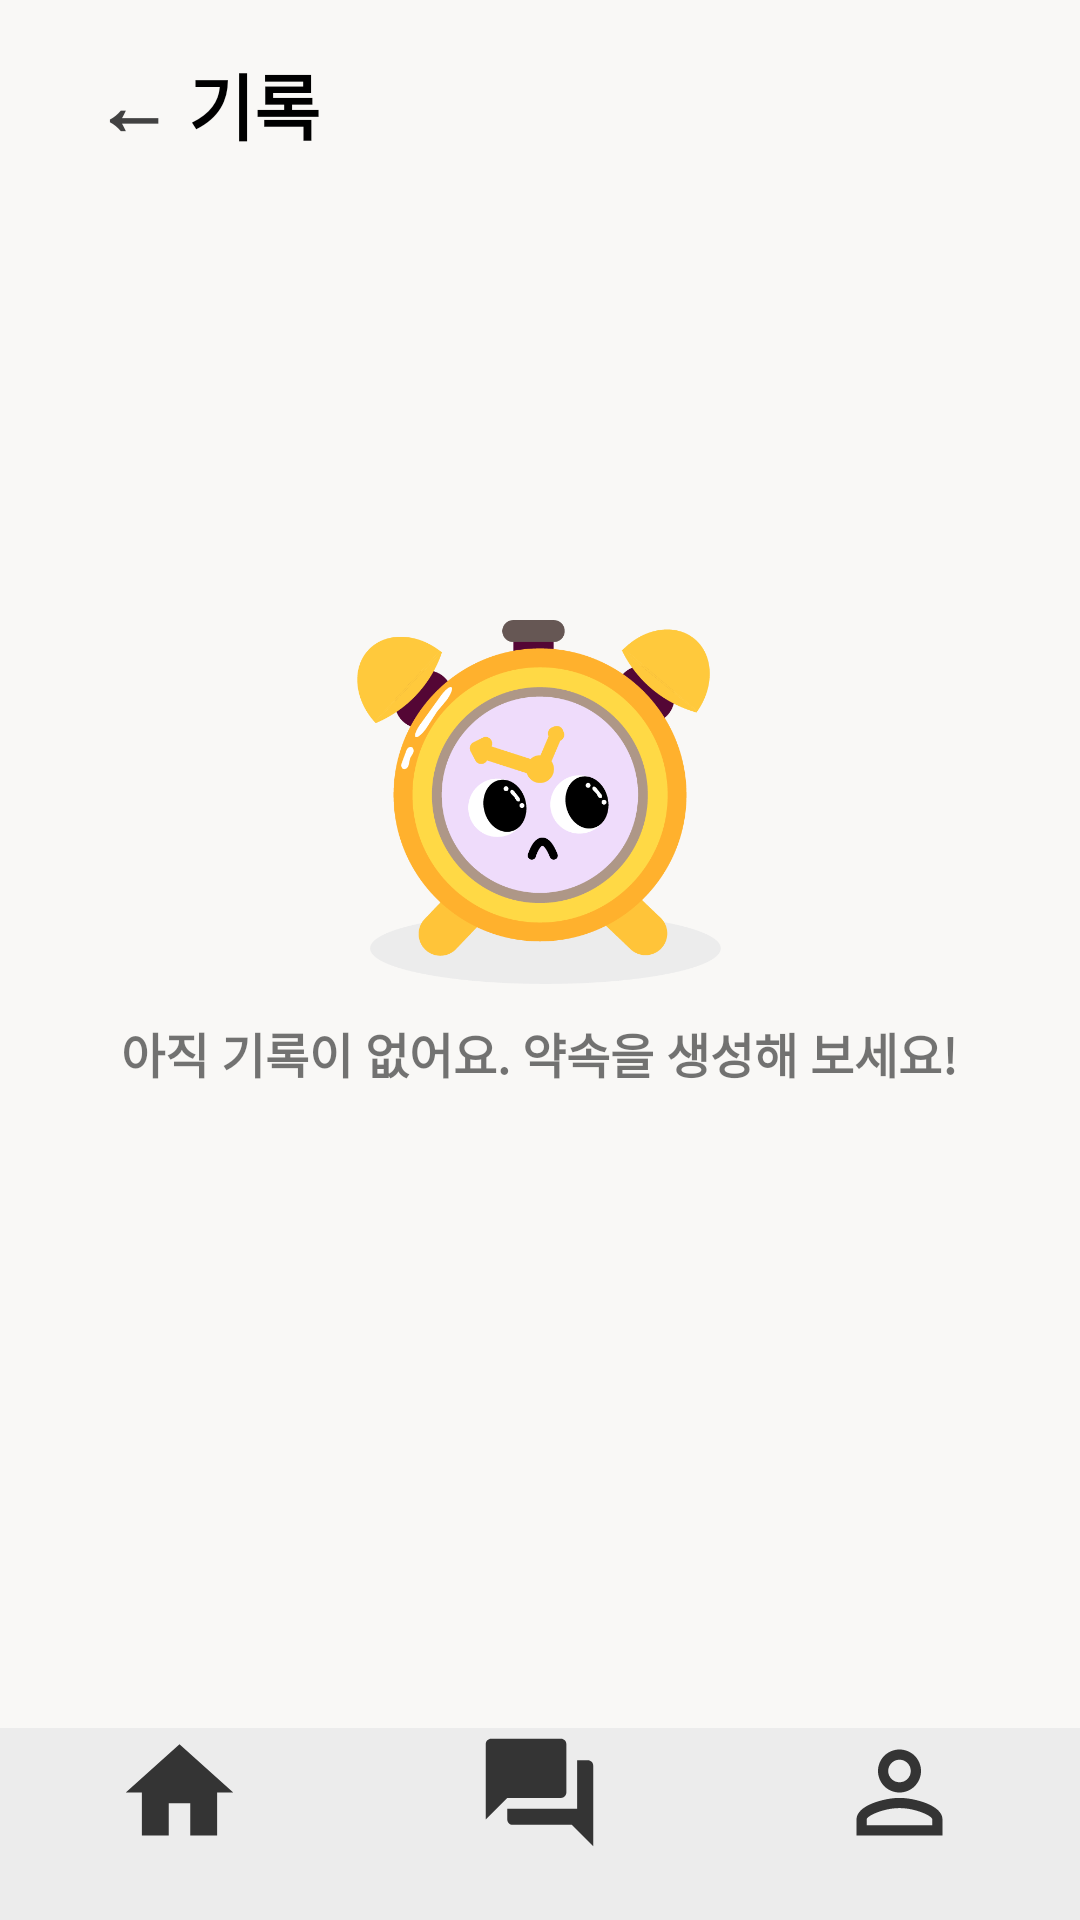

Named icons in this screenshot (1080px×1920px) and their centers, (x,y):
homeclock: (533,788)
